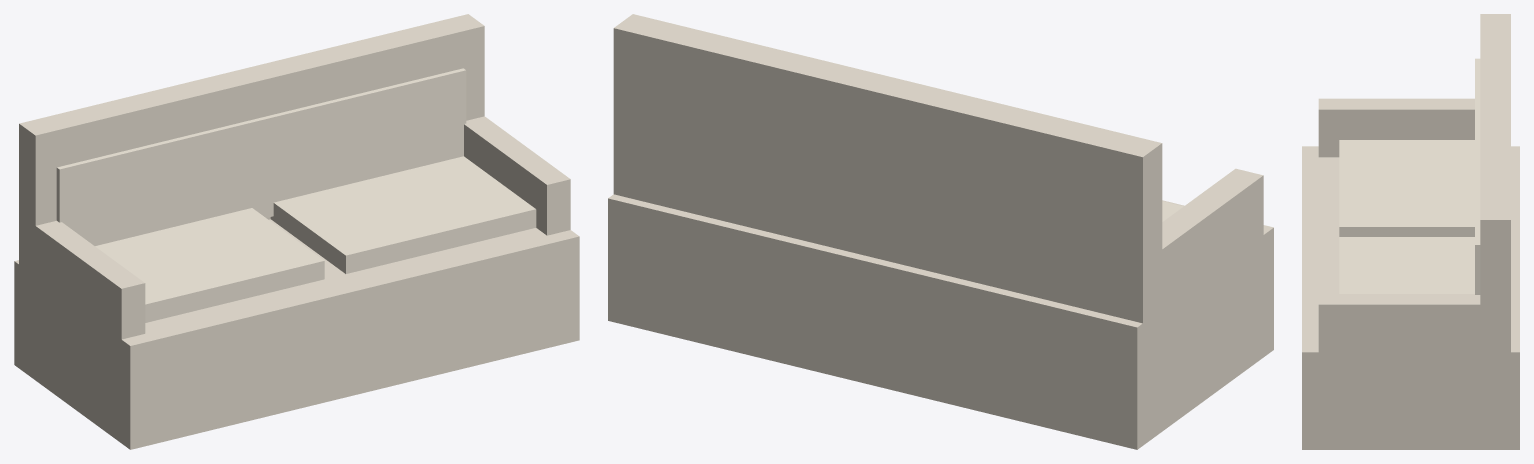
The model's file is sofa.glb.
3 views of the same model, side by side, from view 1: azimuth 30°, elevation 25°; view 2: azimuth 150°, elevation 25°; view 3: azimuth 270°, elevation 25° (orthographic). The views are drawn at different scales.
Bounding box in the file's own units: 1.9 × 0.99 × 0.85.
